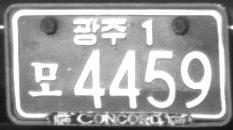1: (136, 17, 159, 46)
4: (72, 48, 105, 109), (107, 48, 140, 109)
5: (143, 48, 176, 109)
9: (179, 49, 213, 109)
광주_O: (71, 16, 128, 47)
모: (27, 60, 64, 98)
